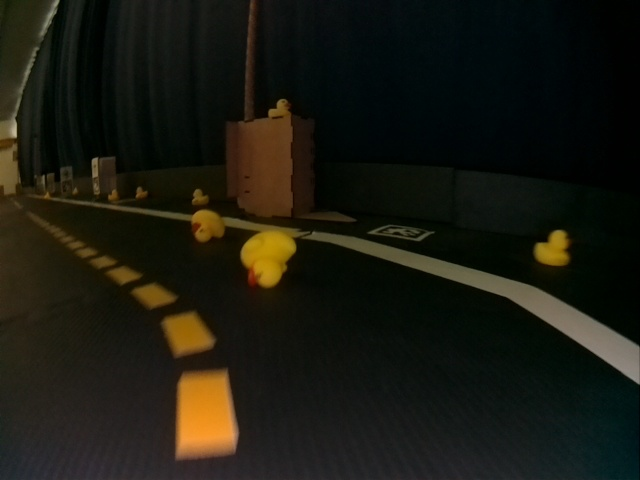Duckie: (240, 234, 293, 287), (191, 211, 224, 241), (536, 232, 567, 263), (270, 98, 289, 119), (135, 187, 147, 198), (107, 190, 117, 199)
QR code: (373, 224, 433, 242)
